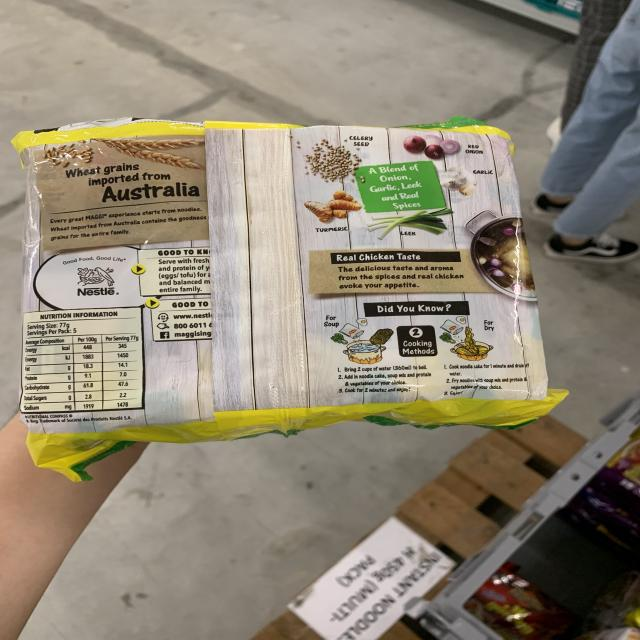object_name: (30, 129, 540, 429)
